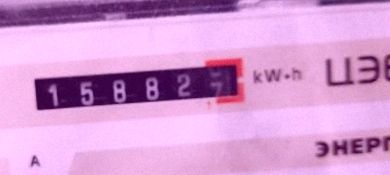1: (45, 81, 61, 107)
2: (175, 71, 191, 96)
5: (77, 78, 95, 105)
7: (208, 77, 223, 97)
8: (110, 77, 128, 104), (143, 74, 159, 100)
screen: (18, 49, 254, 126)
